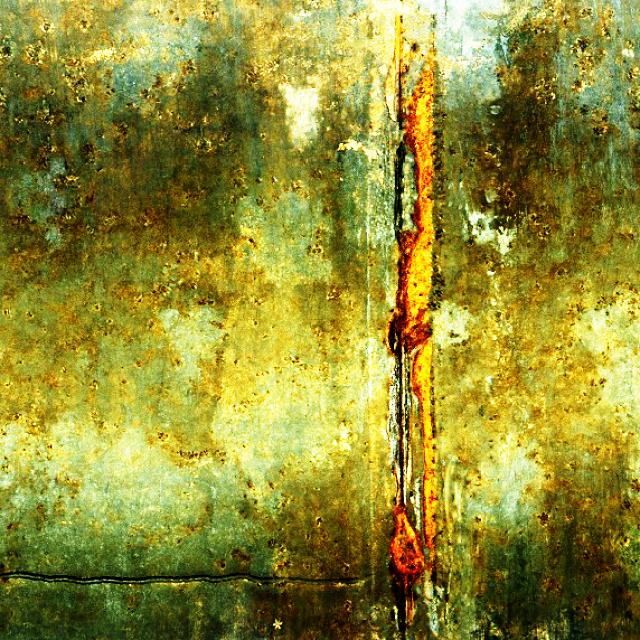Corrosion: (386, 35, 438, 358), (410, 338, 437, 573), (389, 504, 424, 630), (385, 12, 421, 122), (387, 356, 412, 507)
